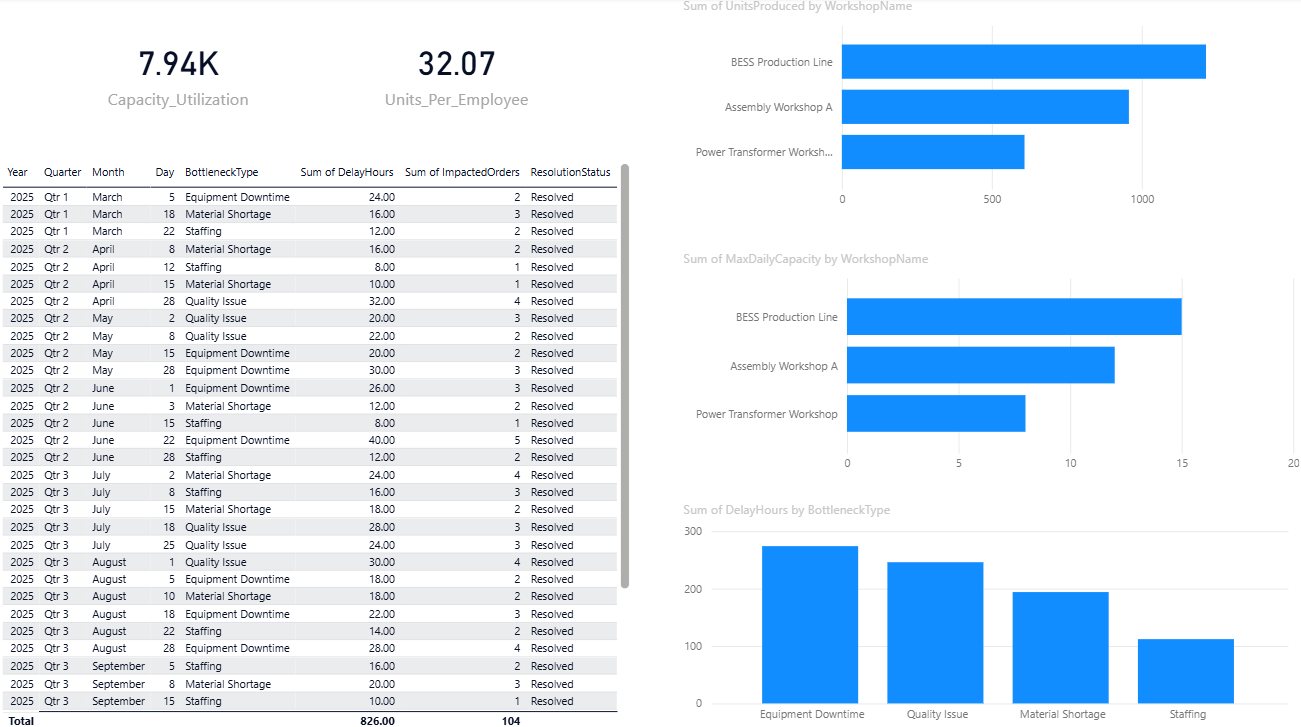

This screenshot's page, from the dashboard's own definition file:
{"tool":"powerbi","page":{"name":"Page 3","canvas":[1280,720],"ordinal":2},"visuals":[{"type":"card","fields":{"Values":["Workshop_Capacity.Capacity_Utilization"]},"box":[54.6,0,246.9,146],"z":0},{"type":"card","fields":{"Values":["Daily_Production.Units_Per_Employee"]},"box":[337,0,226.5,146],"z":1000},{"type":"clusteredBarChart","fields":{"Category":["Workshop_Capacity.WorkshopName"],"Y":["Sum(Workshop_Capacity.MaxDailyCapacity)"]},"box":[667.2,246.9,612.6,226.5],"z":2000},{"type":"clusteredBarChart","fields":{"Category":["Workshop_Capacity.WorkshopName"],"Y":["Sum(Daily_Production.UnitsProduced)"]},"box":[667.3,0,587.8,215.1],"z":3000},{"type":"clusteredColumnChart","fields":{"Category":["Production_Bottlenecks.BottleneckType"],"Y":["Sum(Production_Bottlenecks.DelayHours)"]},"box":[667.2,492.5,601.7,226.5],"z":3001},{"type":"tableEx","fields":{"Values":["Production_Bottlenecks.ReportDate.Variation.Date Hierarchy.Year","Production_Bottlenecks.ReportDate.Variation.Date Hierarchy.Quarter","Production_Bottlenecks.ReportDate.Variation.Date Hierarchy.Month","Production_Bottlenecks.ReportDate.Variation.Date Hierarchy.Day","Production_Bottlenecks.BottleneckType","Sum(Production_Bottlenecks.DelayHours)","Sum(Production_Bottlenecks.ImpactedOrders)","Production_Bottlenecks.ResolutionStatus"]},"box":[0,157.6,624.8,563.1],"z":3002}]}

Visuals, with their boxes in screenshot pixels (x1, y1, x2, y2), scaled from the page's 1280x720 canvas onto the 1301x727 screenshot:
card - Workshop_Capacity.Capacity_Utilization: l=55, t=0, r=306, b=147
card - Daily_Production.Units_Per_Employee: l=343, t=0, r=573, b=147
clusteredBarChart - Workshop_Capacity.WorkshopName x Sum(Workshop_Capacity.MaxDailyCapacity): l=678, t=249, r=1300, b=478
clusteredBarChart - Workshop_Capacity.WorkshopName x Sum(Daily_Production.UnitsProduced): l=678, t=0, r=1276, b=217
clusteredColumnChart - Production_Bottlenecks.BottleneckType x Sum(Production_Bottlenecks.DelayHours): l=678, t=497, r=1290, b=726
tableEx - Production_Bottlenecks.ReportDate.Variation.Date Hierarchy.Year x Production_Bottlenecks.ReportDate.Variation.Date Hierarchy.Quarter: l=0, t=159, r=635, b=726
